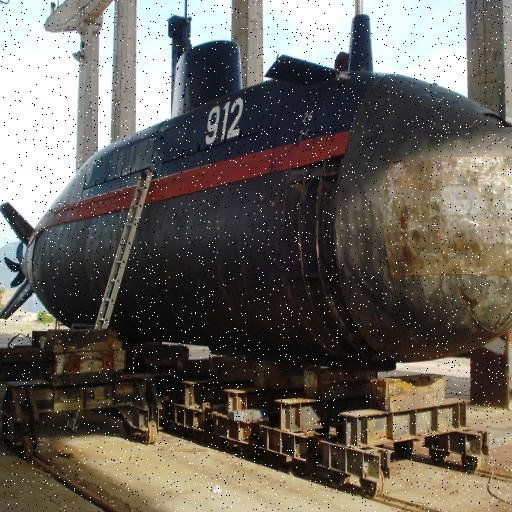submarine: (1, 1, 512, 373)
